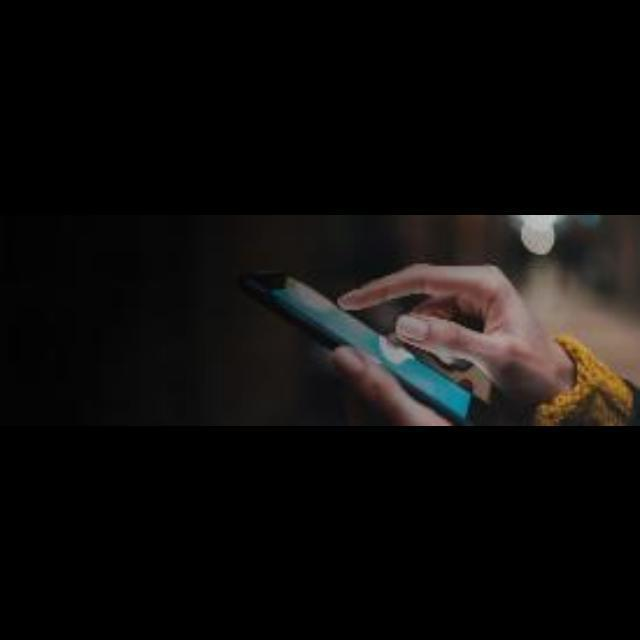PhoneUse: (239, 268, 497, 426)
